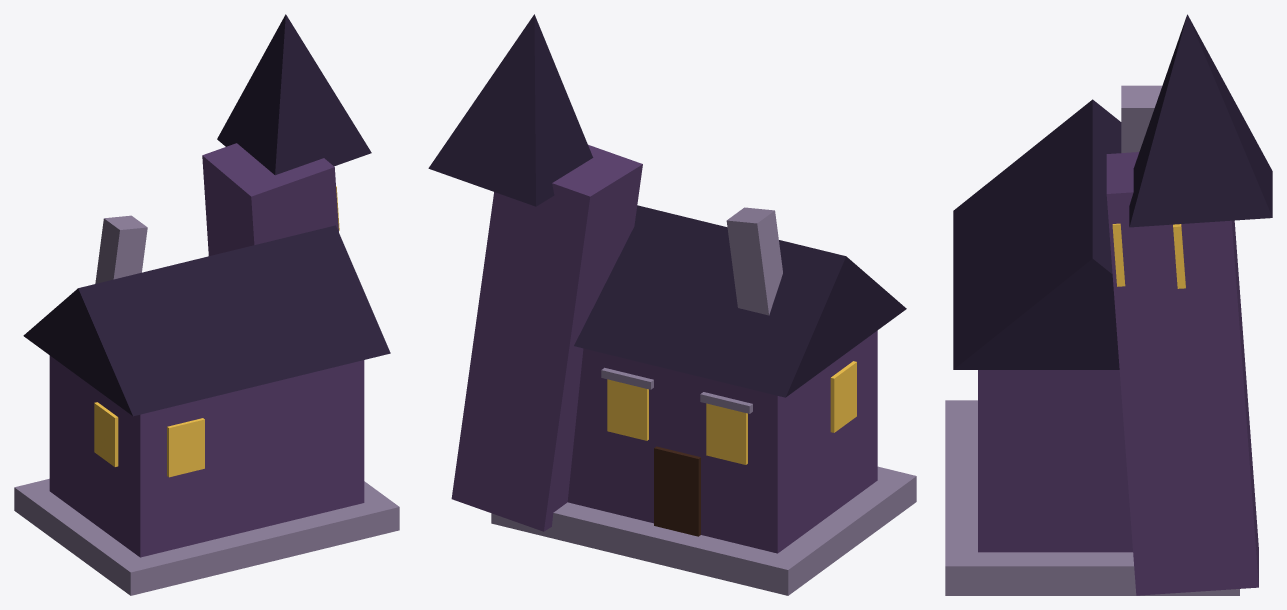
File: casona.obj
The picture shows the model from 3 angles, left to right: view 1: azimuth 30°, elevation 25°; view 2: azimuth 150°, elevation 25°; view 3: azimuth 270°, elevation 25°; orthographic projection. The views are drawn at different scales.
Parts seen in each view (by area): view 1: casona; view 2: casona; view 3: casona.
Boxes of the visible parts, box(x1,y1,x2,y2) form: casona: box(14, 14, 399, 595); casona: box(428, 14, 916, 595); casona: box(945, 14, 1272, 595).
Size of the model in its own units: 2.8 by 3.85 by 2.
